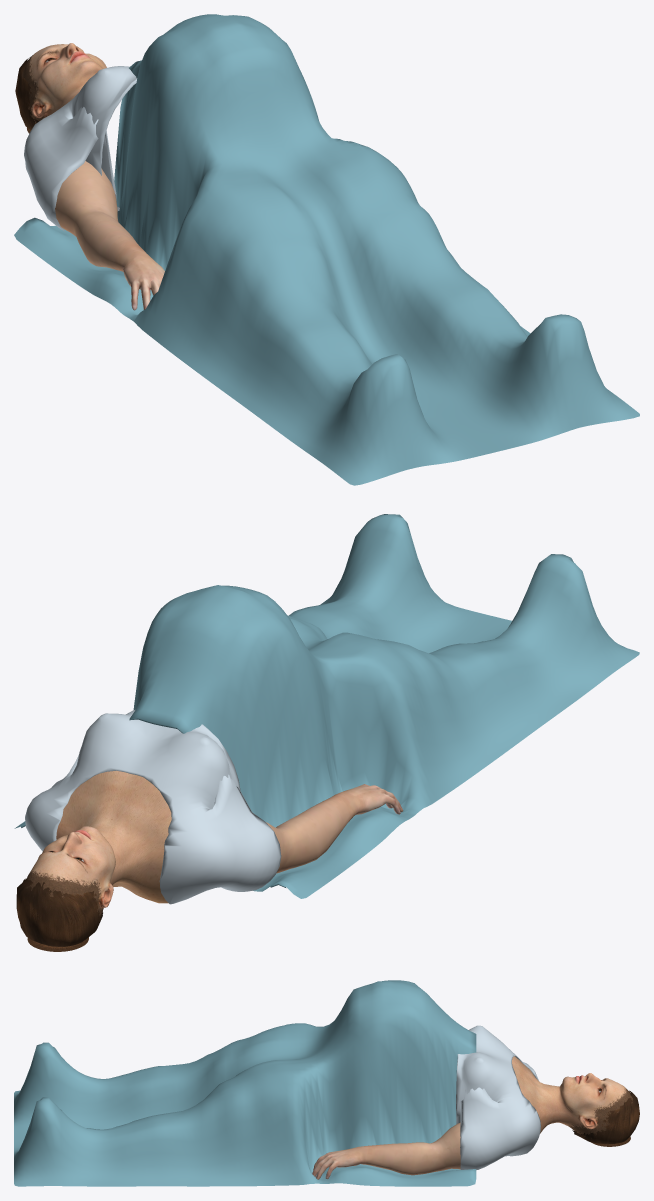
The picture shows the model from 3 angles, top to bottom: view 1: azimuth 30°, elevation 25°; view 2: azimuth 150°, elevation 25°; view 3: azimuth 270°, elevation 25°; orthographic projection. The views are drawn at different scales.
Parts seen in each view (by area): view 1: sheet, gown, arms, body, hair; view 2: sheet, gown, body, arms, hair; view 3: sheet, gown, body, arms, hair.
Part boxes in pixels (x1=…): sheet: x1=14, y1=14, x2=639, y2=485; gown: x1=24, y1=66, x2=137, y2=231; arms: x1=55, y1=161, x2=164, y2=310; body: x1=22, y1=43, x2=106, y2=123; hair: x1=15, y1=56, x2=38, y2=133; sheet: x1=14, y1=514, x2=639, y2=898; gown: x1=25, y1=709, x2=281, y2=904; body: x1=25, y1=770, x2=171, y2=915; arms: x1=266, y1=784, x2=403, y2=873; hair: x1=16, y1=878, x2=102, y2=951; sheet: x1=14, y1=980, x2=476, y2=1186; gown: x1=456, y1=1025, x2=540, y2=1169; body: x1=512, y1=1056, x2=633, y2=1138; arms: x1=312, y1=1122, x2=460, y2=1179; hair: x1=572, y1=1090, x2=639, y2=1146.
Size of the model in its own units: 0.6413 by 0.4815 by 1.77.
Materials: 8 (6 with a texture image).
